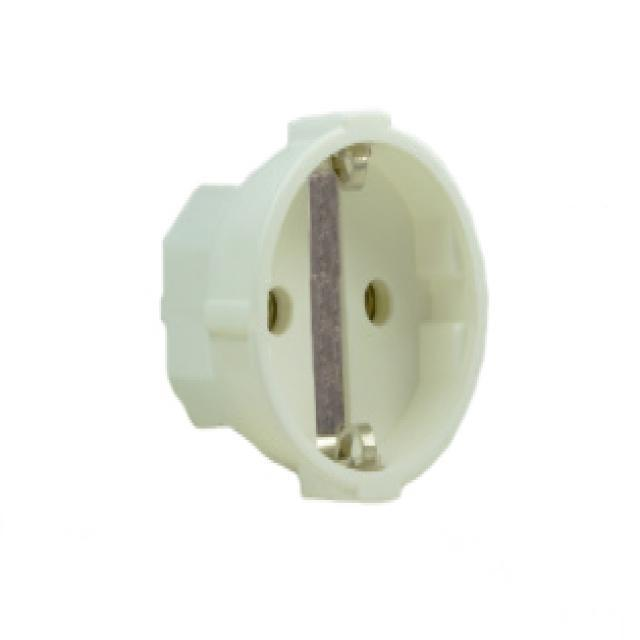typeb: (145, 96, 512, 541)
